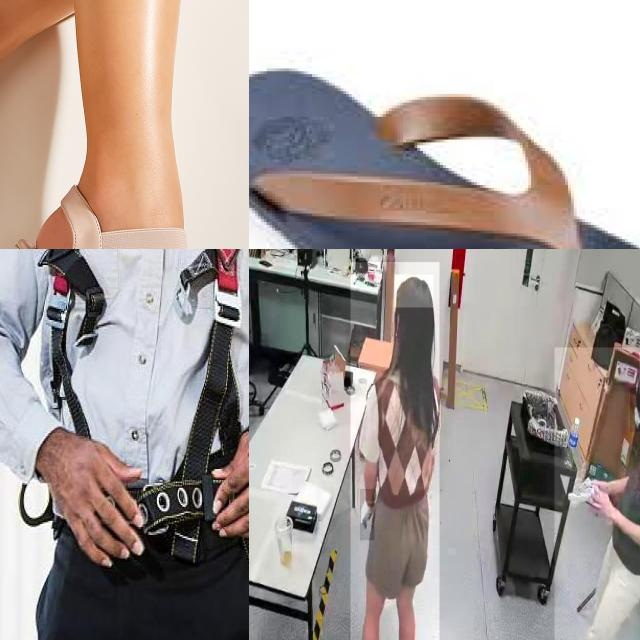Harness: (55, 249, 249, 552)
Sandals: (249, 52, 640, 249), (0, 179, 249, 249)
face_mask: (630, 387, 640, 431)
hand_glove: (360, 489, 375, 541)
hand_noglove: (584, 483, 610, 520)
head_nohelmet: (394, 274, 434, 308)
person: (350, 262, 439, 640), (554, 347, 640, 640)
